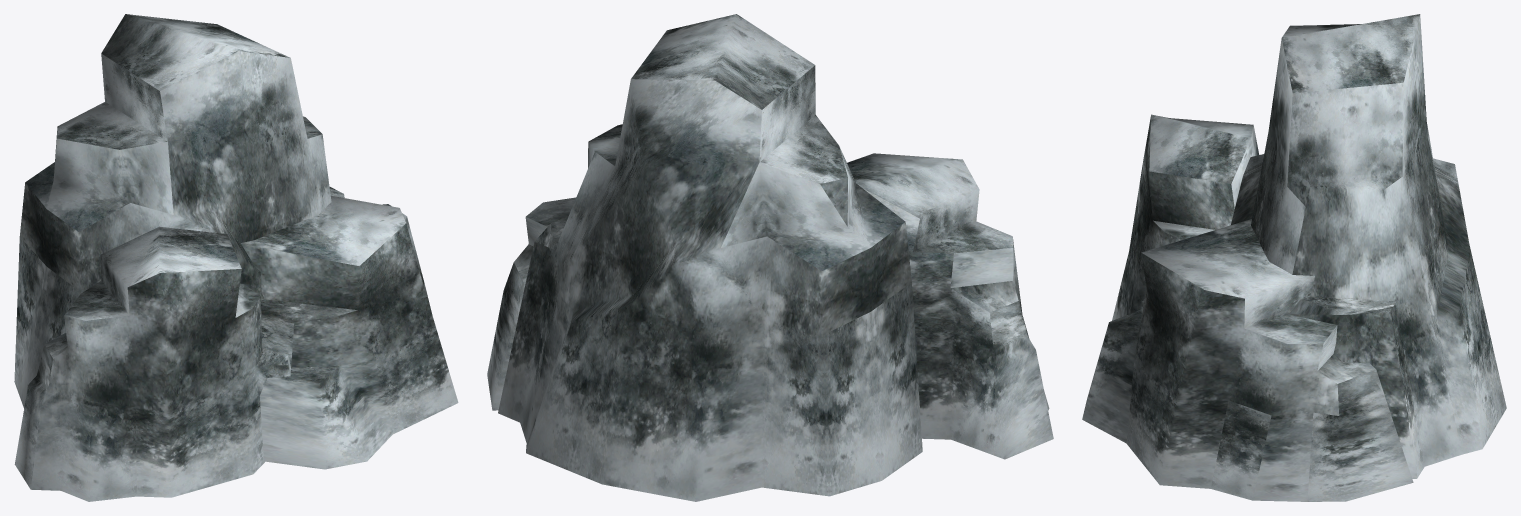
File: S_Rock_White002.FBX
3 renders of one model, left to right at view 1: azimuth 30°, elevation 25°; view 2: azimuth 150°, elevation 25°; view 3: azimuth 270°, elevation 25°, orthographic. The views are drawn at different scales.
Visible parts, largest first — view 1: S_Rock_White002; view 2: S_Rock_White002; view 3: S_Rock_White002.
Part boxes in pixels (<box>): S_Rock_White002: <box>14,14,458,501</box>; S_Rock_White002: <box>487,14,1053,501</box>; S_Rock_White002: <box>1082,14,1506,501</box>.
Bounding box in the file's own units: 894 × 713 × 680.
